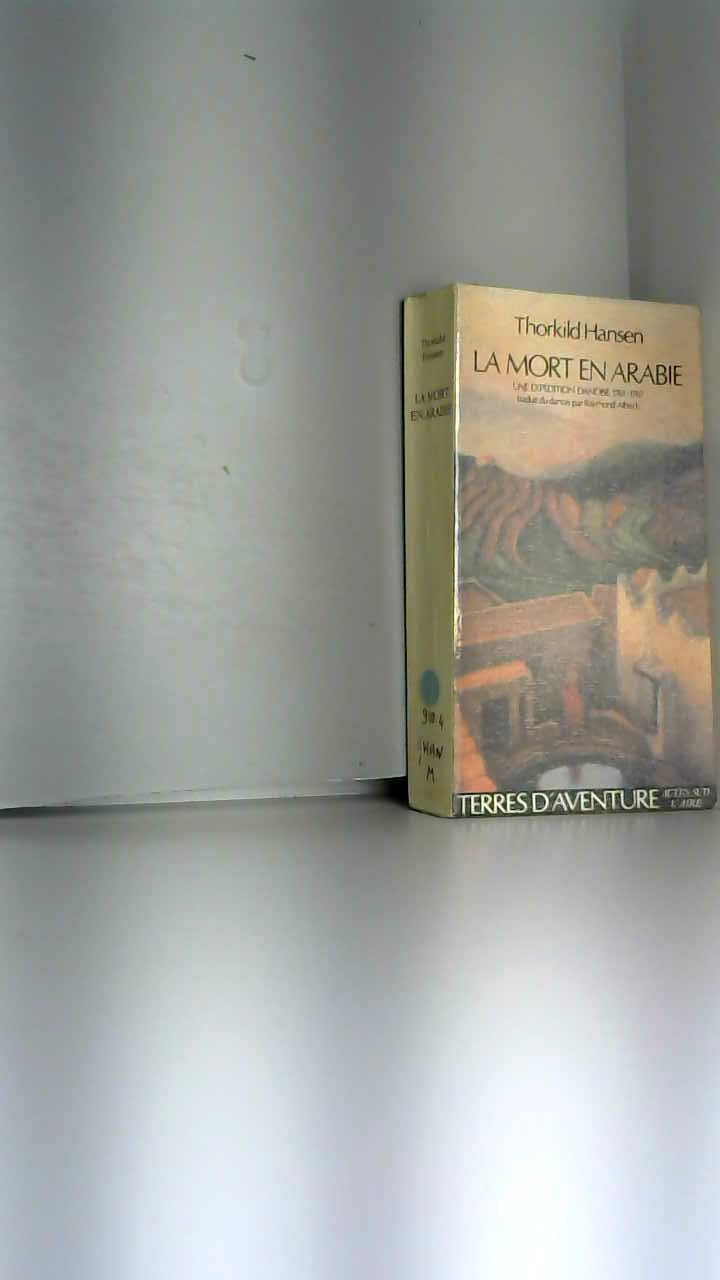book: (370, 260, 720, 844)
